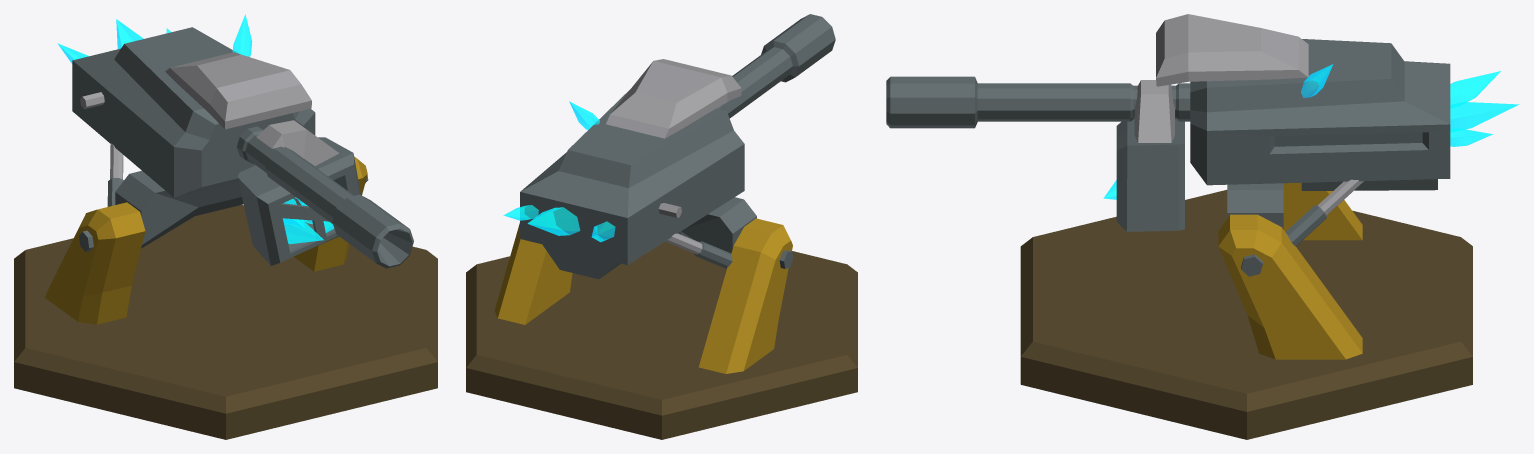
Rendered from PlayerTurret001.fbx.
3 views of the same model, side by side, from view 1: azimuth 30°, elevation 25°; view 2: azimuth 150°, elevation 25°; view 3: azimuth 270°, elevation 25° (orthographic). The views are drawn at different scales.
Parts seen in each view (by area): view 1: PlayerTurret_Base, PlayerTurret_Barrel; view 2: PlayerTurret_Base, PlayerTurret_Barrel; view 3: PlayerTurret_Base, PlayerTurret_Barrel.
Boxes of the visible parts, <box> form: PlayerTurret_Base: <box>14,157,437,439</box>; PlayerTurret_Barrel: <box>57,14,413,268</box>; PlayerTurret_Base: <box>466,218,857,439</box>; PlayerTurret_Barrel: <box>503,14,835,279</box>; PlayerTurret_Base: <box>1020,182,1472,439</box>; PlayerTurret_Barrel: <box>886,14,1519,246</box>.
Size of the model in its own units: 386 by 242 by 468.
